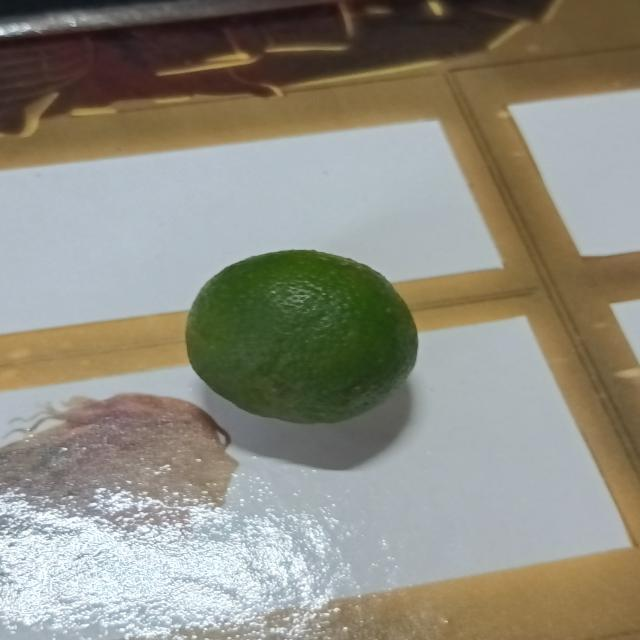heathy: (184, 245, 422, 420)
